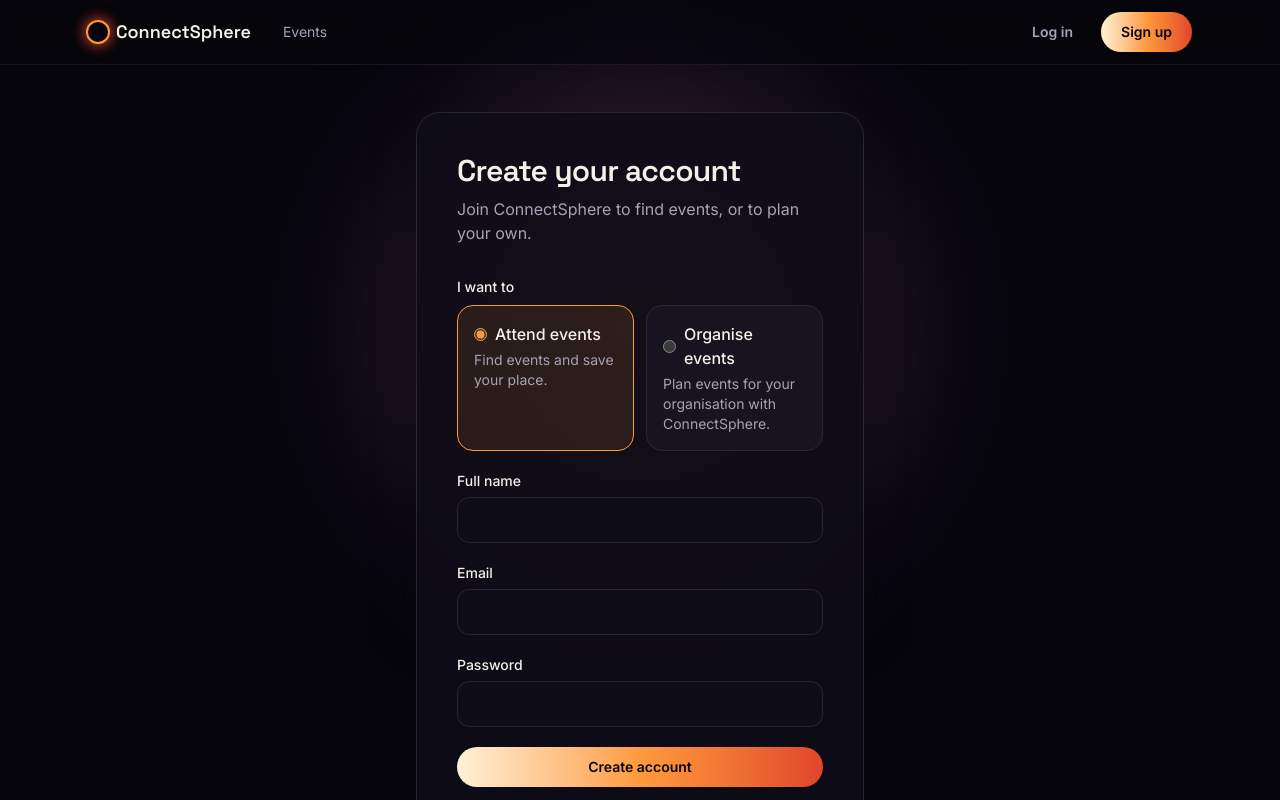
Test: SCRUM-65 sign up › creates an attendee account, signs them in and takes them to their own events
Type "Priya Nair" into the field labelled "Full name" at (640, 520), box [457, 497, 823, 543]
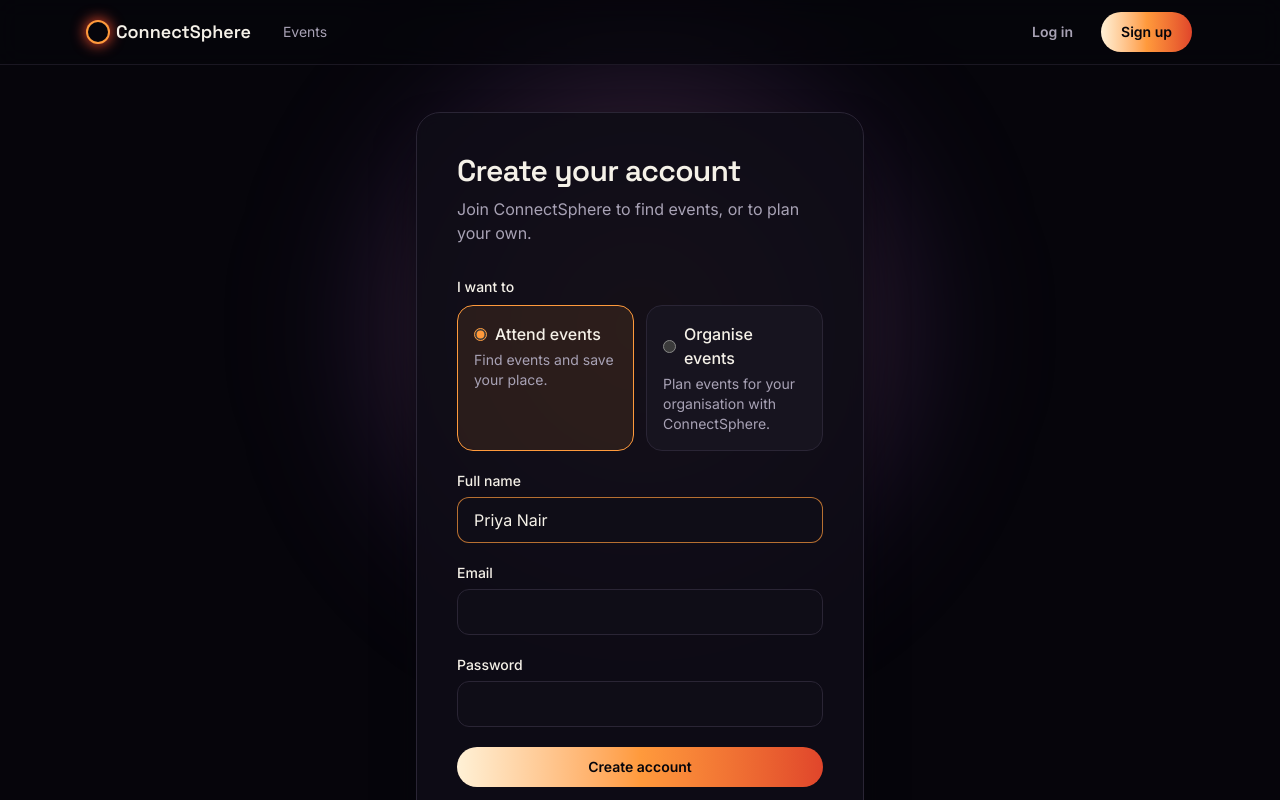
Type "priya@example.com" into the field labelled "Email" at (640, 612), box [457, 589, 823, 635]
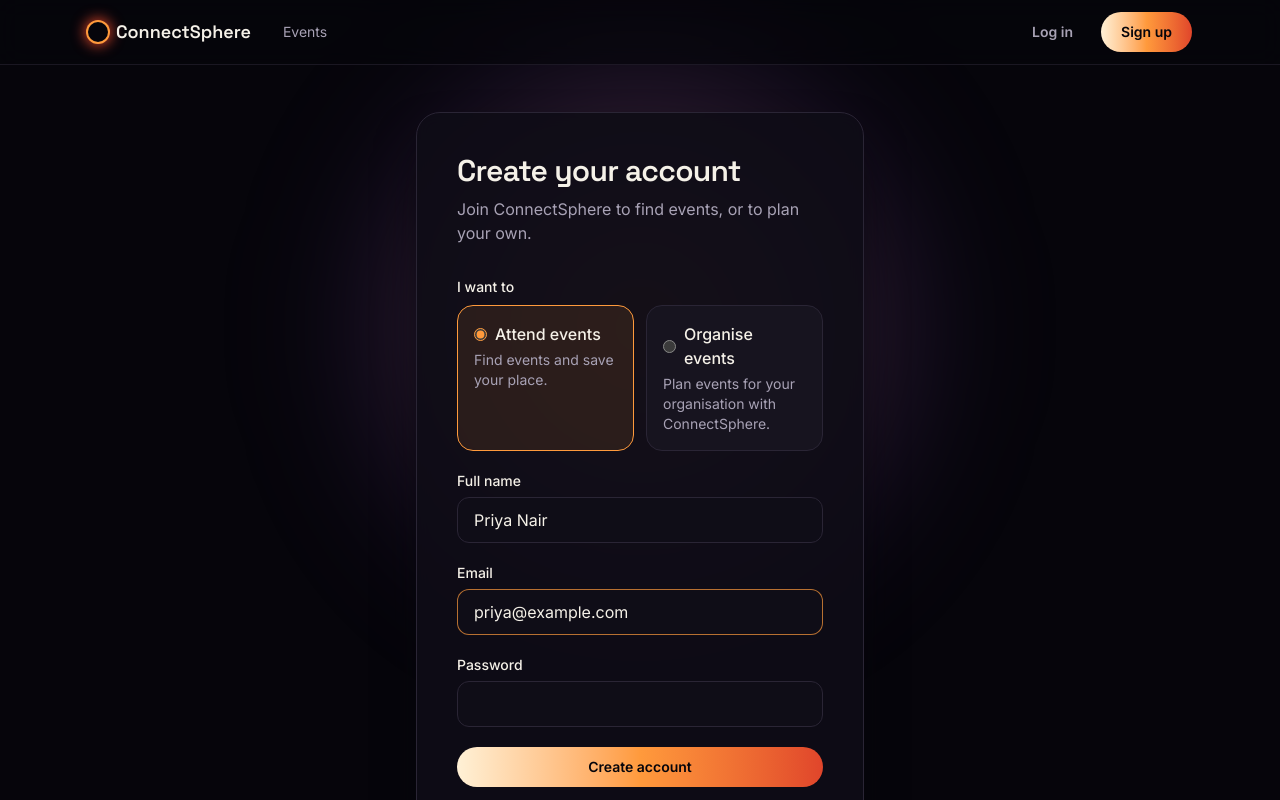
Type "Password123" into the password field labelled "Password" at (640, 704), box [457, 681, 823, 727]
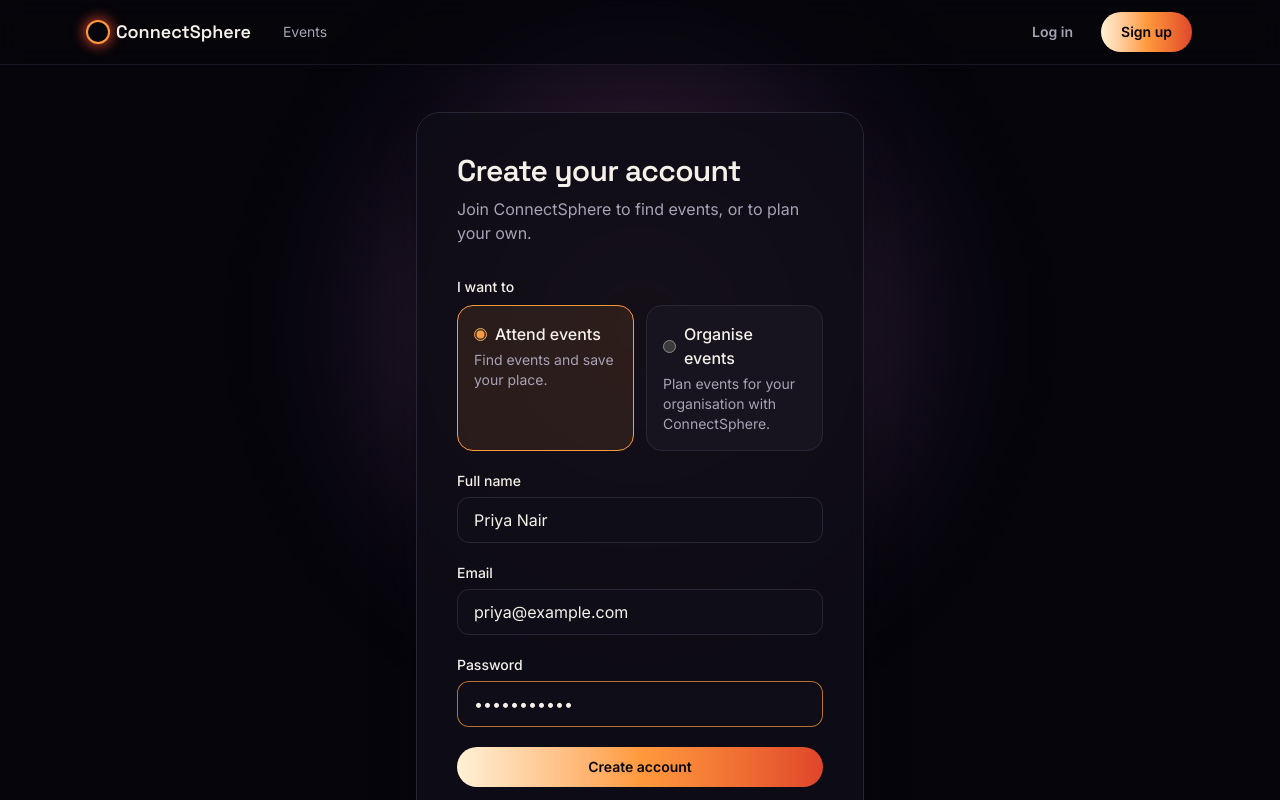
Click the button "Create account" at (640, 767), box [457, 747, 823, 787]
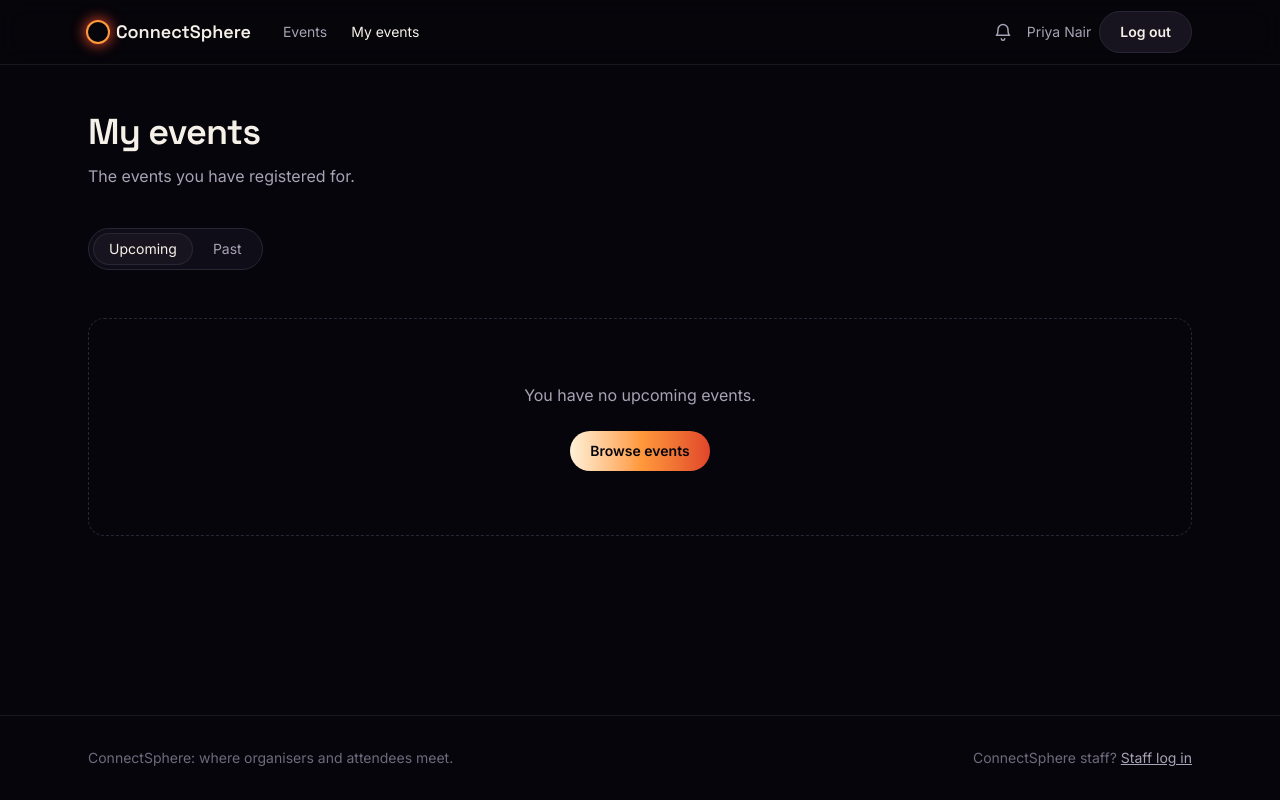
Check: the text "Priya Nair" is shown, box [1027, 22, 1091, 42]
